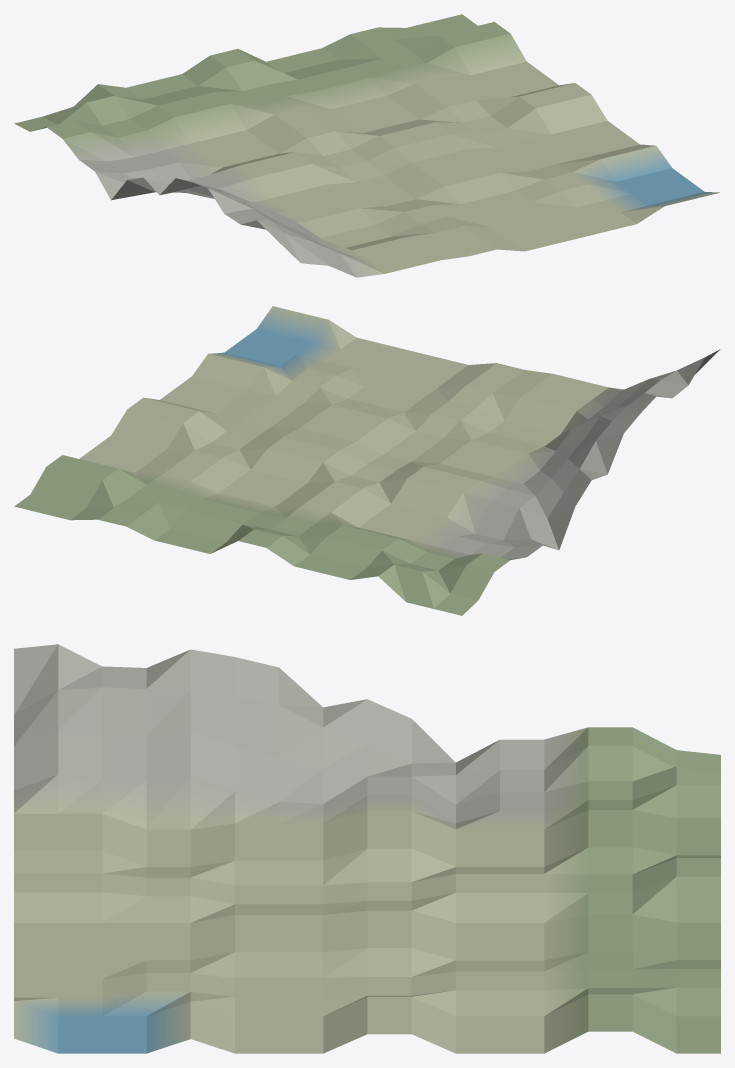
3 views of the same model, one above another, from view 1: azimuth 30°, elevation 25°; view 2: azimuth 150°, elevation 25°; view 3: azimuth 270°, elevation 25° (orthographic). The views are drawn at different scales.
Size of the model in its own units: 32 by 6.16 by 32.
